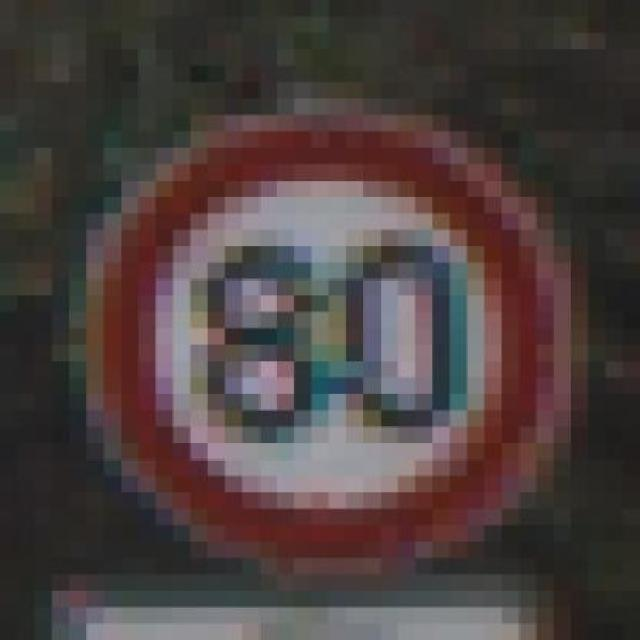forb_speed_over_80: (101, 120, 553, 575)
